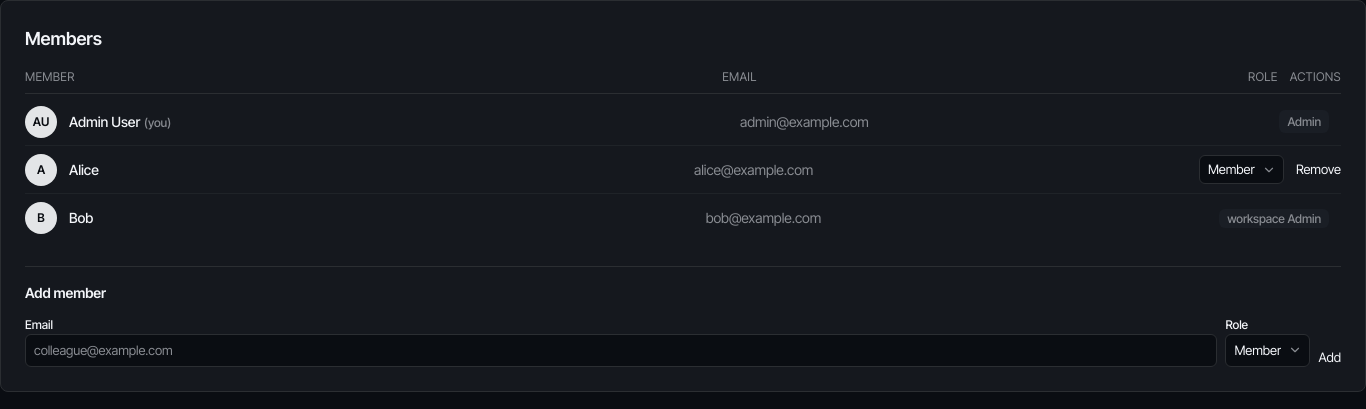
ProjectMembersSection — remove flow › clicking remove shows confirm/cancel buttons
Click the button with test id "remove-btn-pm-2" at (1318, 170), box x1=1296 y1=160 x2=1341 y2=179
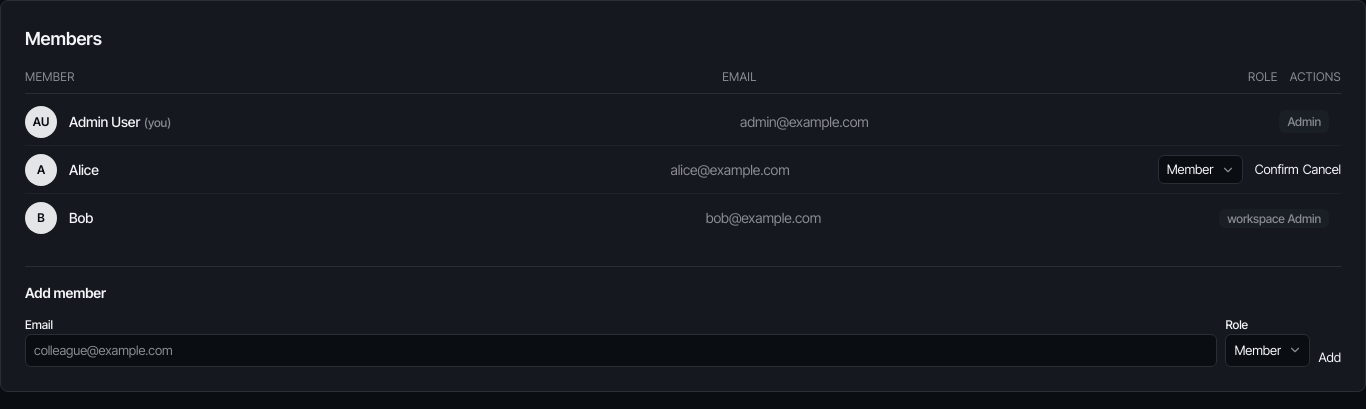
Expected: the button with test id "confirm-remove-pm-2" is shown, x1=1255 y1=160 x2=1299 y2=179
Expected: the button with test id "cancel-remove-pm-2" is shown, x1=1303 y1=160 x2=1341 y2=179
